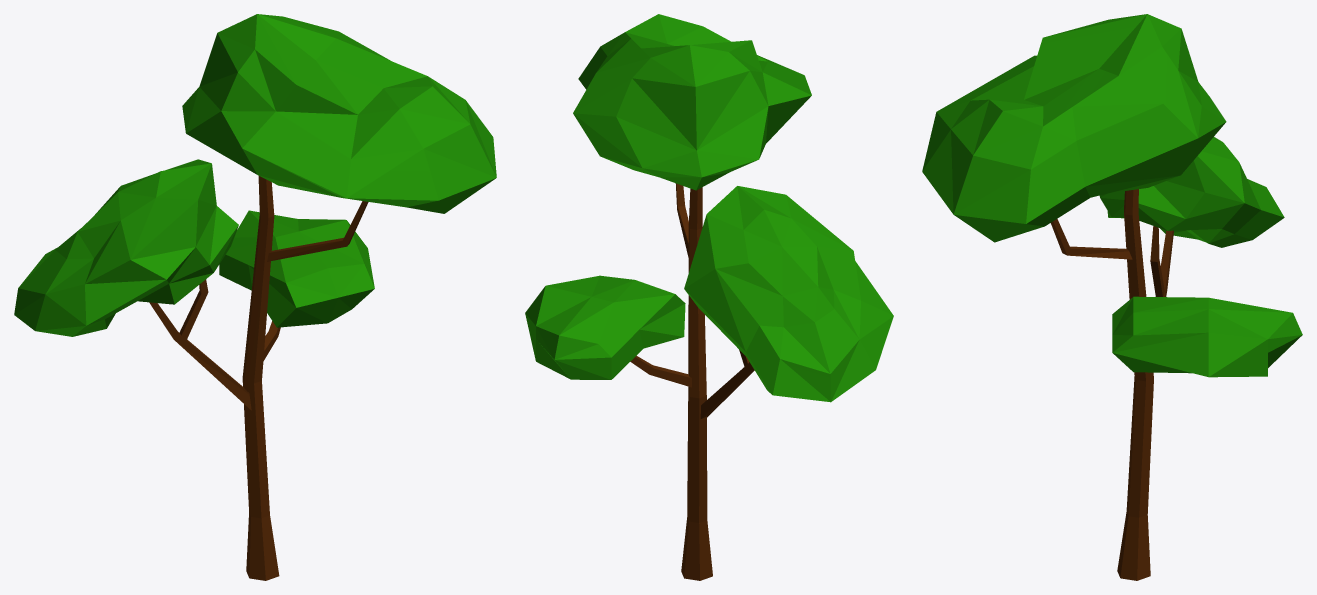
File: Tree_temp_climate_008.FBX
3 renders of one model, left to right at view 1: azimuth 30°, elevation 25°; view 2: azimuth 150°, elevation 25°; view 3: azimuth 270°, elevation 25°, orthographic. The views are drawn at different scales.
Parts seen in each view (by area): view 1: Tree_temp_climate_008; view 2: Tree_temp_climate_008; view 3: Tree_temp_climate_008.
Boxes of the visible parts, bbox=[...] form: Tree_temp_climate_008: bbox=[14, 14, 496, 580]; Tree_temp_climate_008: bbox=[525, 14, 893, 580]; Tree_temp_climate_008: bbox=[922, 14, 1302, 580].
Size of the model in its own units: 356 by 492 by 303.
